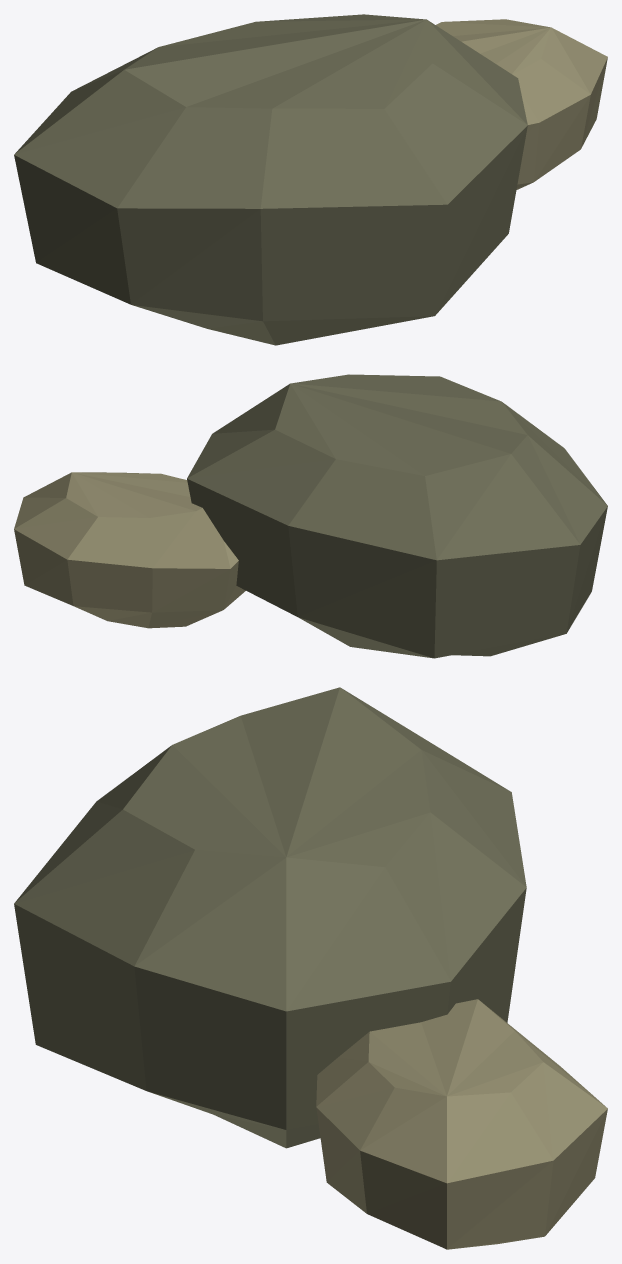
File: bed_rocks_3.obj
3 renders of one model, top to bottom at view 1: azimuth 30°, elevation 25°; view 2: azimuth 150°, elevation 25°; view 3: azimuth 270°, elevation 25°, orthographic. The views are drawn at different scales.
Parts seen in each view (by area): view 1: bed_rocks_3; view 2: bed_rocks_3; view 3: bed_rocks_3.
Part boxes in pixels (box(x1,y1,x2,y2)): bed_rocks_3: box(14, 14, 607, 345); bed_rocks_3: box(14, 374, 607, 658); bed_rocks_3: box(14, 687, 607, 1249).
Size of the model in its own units: 4.11 by 1.61 by 2.77.
